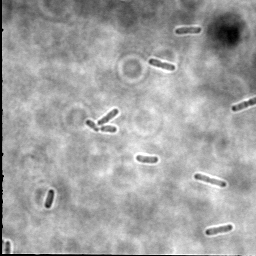Dividing: (193, 172, 227, 189), (148, 57, 177, 73), (97, 107, 120, 127), (230, 96, 255, 113), (205, 224, 234, 236), (174, 26, 202, 36)
Rod: (135, 153, 160, 166), (44, 188, 56, 209), (85, 118, 100, 133), (99, 124, 118, 134)
